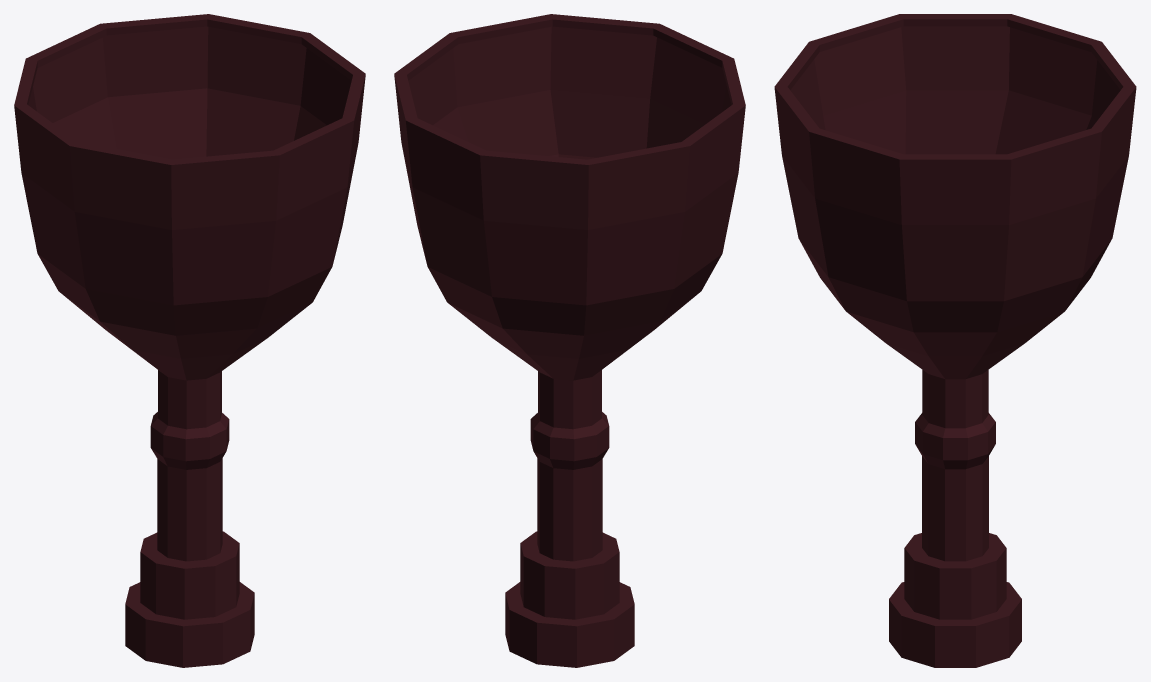
The model's file is Glass 2.fbx.
3 views of the same model, side by side, from view 1: azimuth 30°, elevation 25°; view 2: azimuth 150°, elevation 25°; view 3: azimuth 270°, elevation 25° (orthographic).
Visible parts, largest first — view 1: Glass 3.001; view 2: Glass 3.001; view 3: Glass 3.001.
Part boxes in pixels (bbox=[...]): Glass 3.001: bbox=[14, 14, 365, 667]; Glass 3.001: bbox=[394, 14, 745, 667]; Glass 3.001: bbox=[774, 14, 1136, 667].
Bounding box in the file's own units: 25.65 × 45.57 × 26.97.
